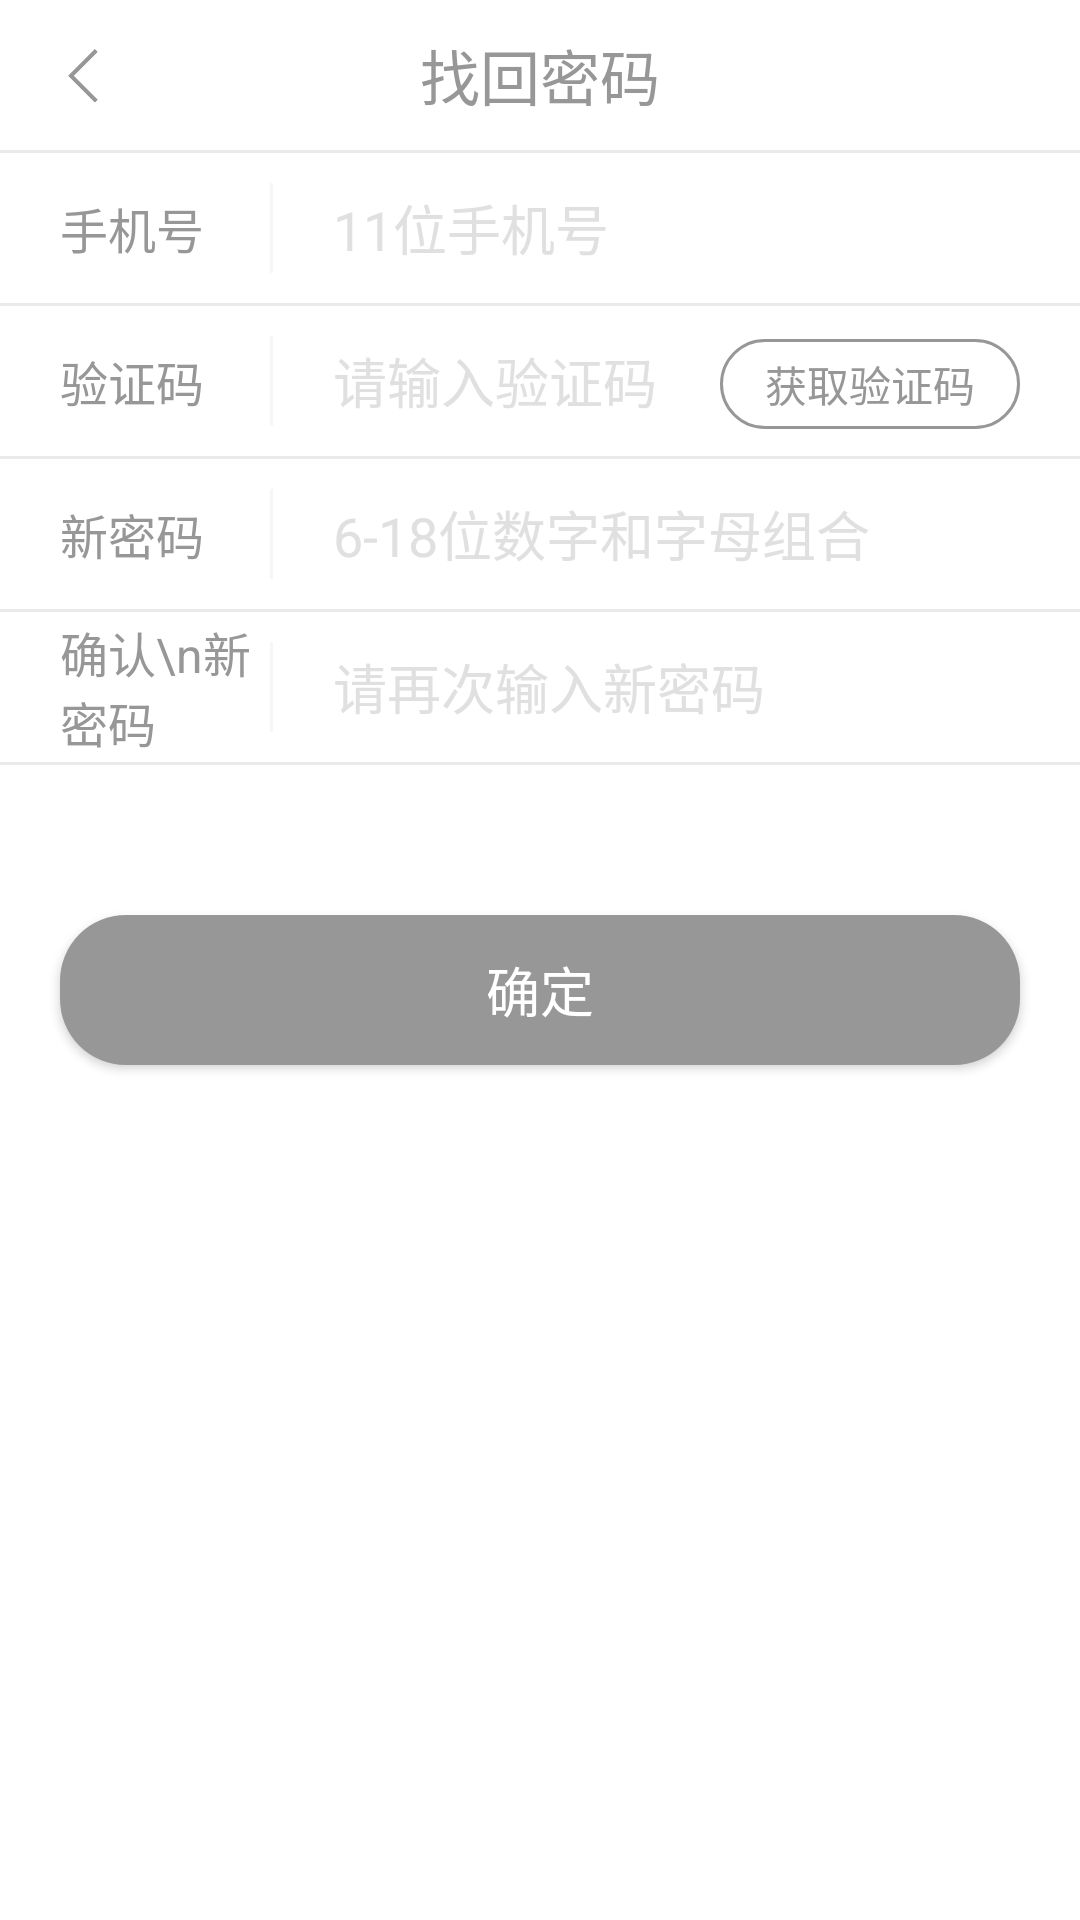

Named icons in this screenshot (1080*1920) and their centers, point (x, y):
back: point (83, 75)
